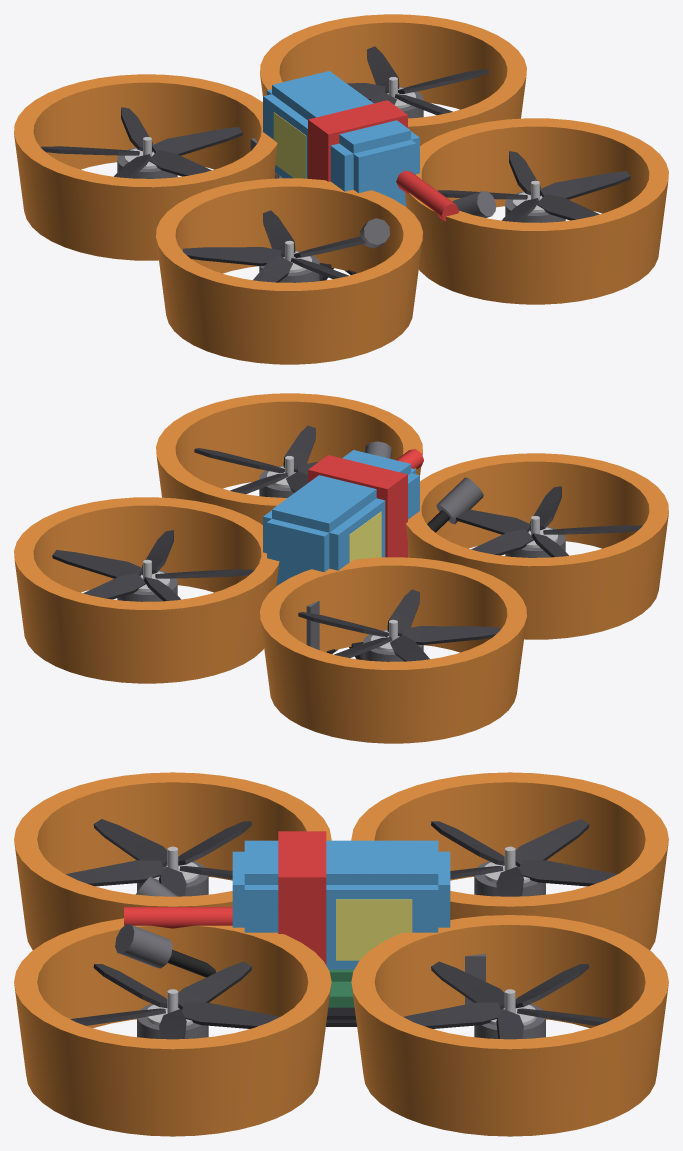
The model's file is cinewhoop25.glb.
3 views of the same model, one above another, from view 1: azimuth 30°, elevation 25°; view 2: azimuth 150°, elevation 25°; view 3: azimuth 270°, elevation 25° (orthographic). The views are drawn at different scales.
Parts seen in each view (by area): view 1: body, prop_FL, prop_RL, prop_RR, prop_FR; view 2: body, prop_FR, prop_FL, prop_RL, prop_RR, cam_mount; view 3: body, prop_RR, prop_FR, prop_FL, prop_RL.
Boxes of the visible parts, x1,y1,x2,y2 form: body: (14, 14, 668, 364); prop_FL: (41, 107, 242, 178); prop_RL: (182, 210, 365, 282); prop_RR: (437, 151, 630, 222); prop_FR: (347, 46, 488, 114); body: (14, 393, 668, 743); prop_FR: (52, 530, 254, 601); prop_FL: (298, 589, 500, 661); prop_RL: (456, 486, 641, 557); prop_RR: (194, 425, 318, 493); cam_mount: (306, 600, 319, 650); body: (14, 772, 668, 1136); prop_RR: (70, 961, 279, 1039); prop_FR: (403, 961, 612, 1039); prop_FL: (431, 819, 616, 896); prop_RL: (66, 819, 251, 896).
Size of the model in its own units: 0.1631 by 0.0444 by 0.1631.
